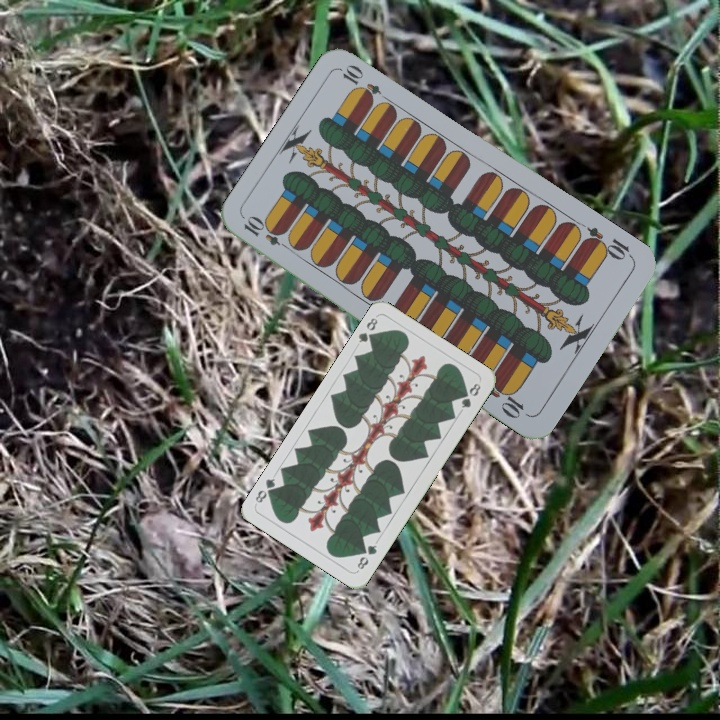E10: (579, 223, 636, 264), (239, 213, 295, 253)
G8: (354, 314, 380, 346), (353, 541, 379, 572)
